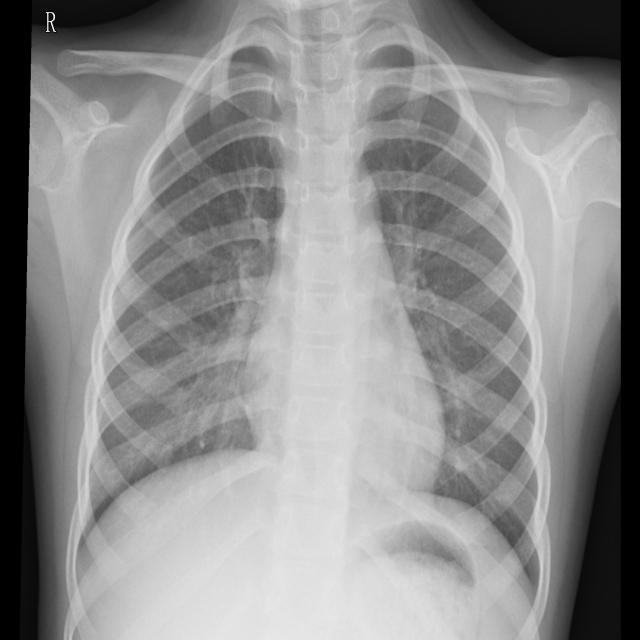no-pneumonia: (71, 46, 295, 564), (362, 46, 550, 615)
